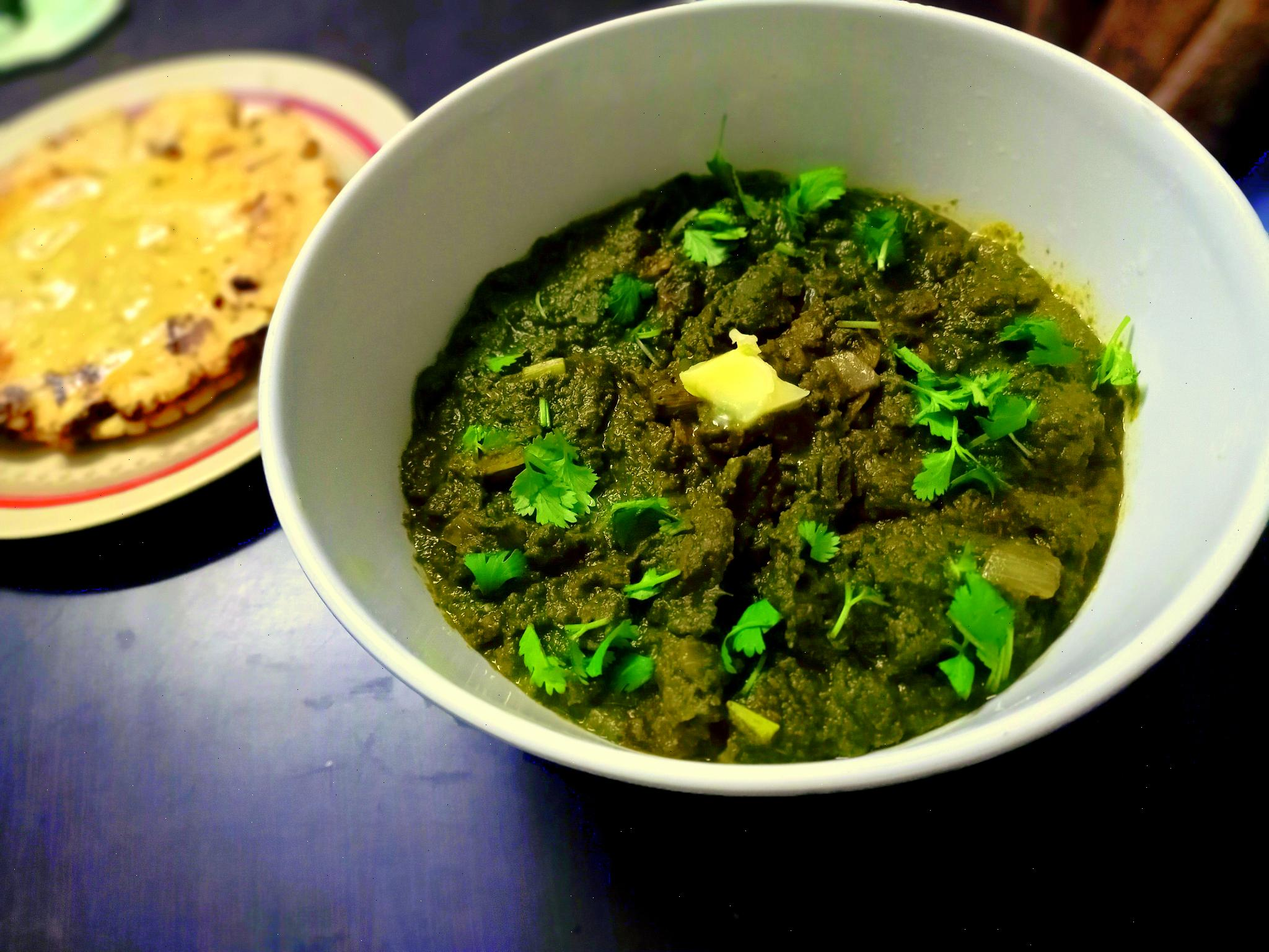saag: (392, 156, 1141, 767)
